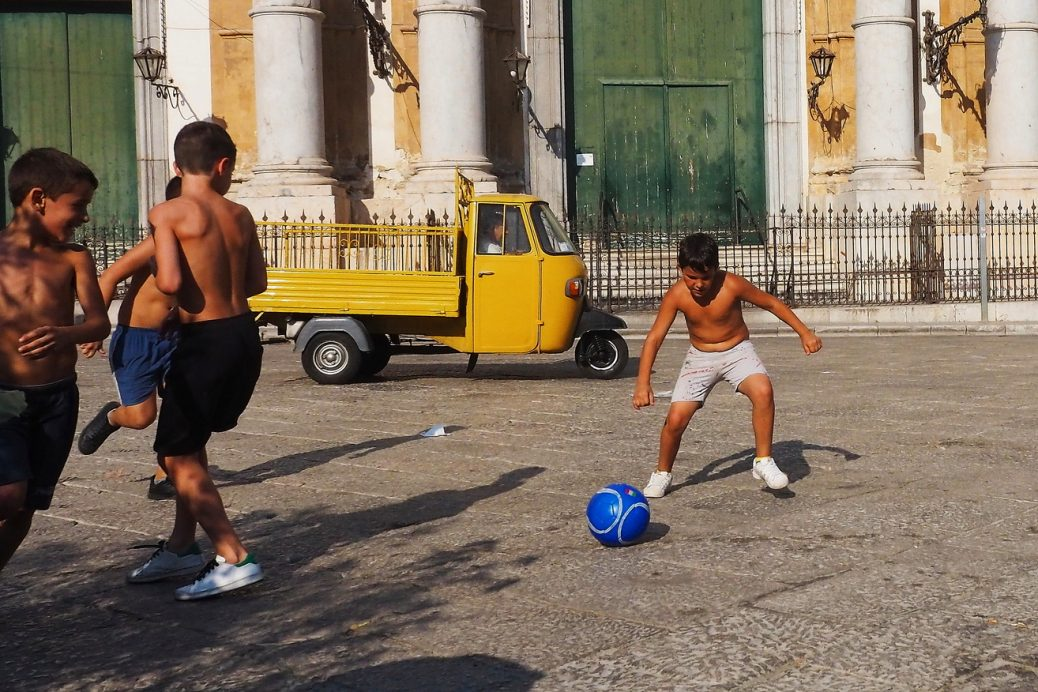Person: (594, 233, 836, 531), (133, 116, 271, 624), (7, 148, 87, 581)
